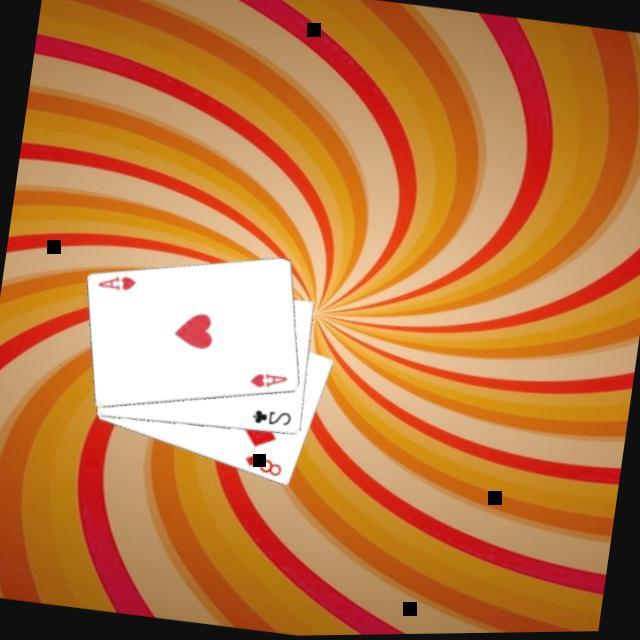2C: (250, 406, 296, 434)
8D: (241, 452, 288, 483)
AH: (248, 368, 293, 398), (96, 270, 142, 298)
